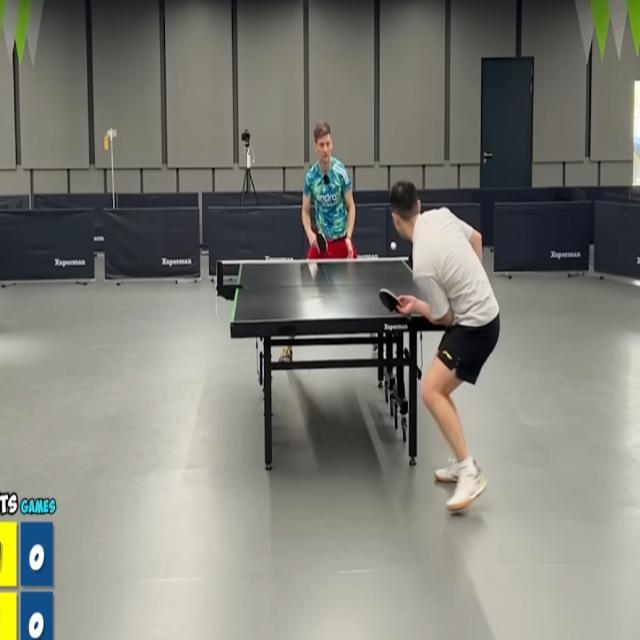TT Net: (214, 255, 442, 290)
TT Racket: (369, 285, 408, 317), (310, 229, 333, 257)
TT Table: (232, 259, 456, 324)
